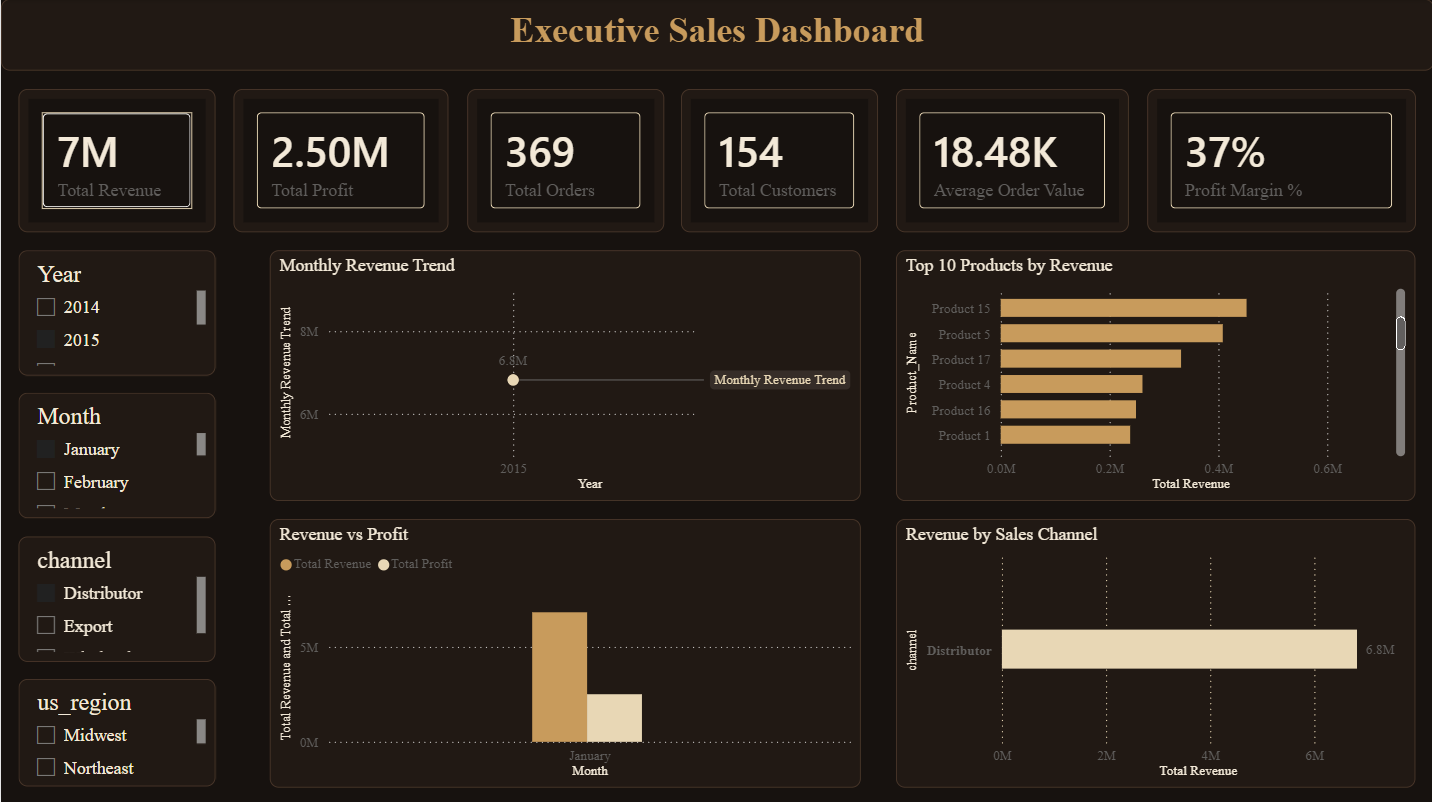

Layout of this report page (visuals, bound fields, positions):
{"tool":"powerbi","page":{"name":"Executive Sales Dashboard","canvas":[1280,720],"ordinal":0},"visuals":[{"type":"cardVisual","fields":{"Data":["cleaned_sales_data.Total Revenue"]},"box":[16,80,176,128],"z":0},{"type":"cardVisual","fields":{"Data":["cleaned_sales_data.Total Profit"]},"box":[208,80,192,128],"z":1000},{"type":"cardVisual","fields":{"Data":["cleaned_sales_data.Total Orders"]},"box":[416,80,176,128],"z":2000},{"type":"cardVisual","fields":{"Data":["cleaned_sales_data.Total Customers"]},"box":[608,80,176,128],"z":3000},{"type":"cardVisual","fields":{"Data":["cleaned_sales_data.Average Order Value"]},"box":[800,80,208,128],"z":4000},{"type":"cardVisual","fields":{"Data":["cleaned_sales_data.Profit Margin %"]},"box":[1024,80,240,128],"z":5000},{"type":"lineChart","title":"Monthly Revenue Trend","fields":{"Y":["cleaned_sales_data.Total Revenue"],"Category":["cleaned_sales_data.order_date.Variation.Date Hierarchy.Year","cleaned_sales_data.order_date.Variation.Date Hierarchy.Month"]},"box":[240,224,528,224],"z":6000},{"type":"clusteredBarChart","title":"Revenue by Sales Channel","fields":{"Category":["cleaned_sales_data.channel"],"Y":["cleaned_sales_data.Total Revenue"]},"box":[800,464,464,240],"z":7000},{"type":"clusteredBarChart","title":"Top 10 Products by Revenue","fields":{"Category":["cleaned_sales_data.Product_Name"],"Y":["cleaned_sales_data.Total Revenue"]},"box":[800,224,464,224],"z":8000},{"type":"clusteredColumnChart","title":"Revenue vs Profit","fields":{"Category":["cleaned_sales_data.order_date.Variation.Date Hierarchy.Month"],"Y":["cleaned_sales_data.Total Revenue","cleaned_sales_data.Total Profit"]},"box":[240,464,528,240],"z":9000},{"type":"slicer","fields":{"Values":["cleaned_sales_data.order_date.Variation.Date Hierarchy.Year"]},"box":[16,224,176,112],"z":10000},{"type":"slicer","fields":{"Values":["cleaned_sales_data.channel"]},"box":[16,480,176,112],"z":11000},{"type":"slicer","fields":{"Values":["cleaned_sales_data.us_region"]},"box":[16,608,176,96],"z":12000},{"type":"slicer","fields":{"Values":["cleaned_sales_data.order_date.Variation.Date Hierarchy.Month"]},"box":[16,352,176,112],"z":13000},{"type":"textbox","box":[0,0,1280,64],"z":14000}]}

Visuals, with their boxes in screenshot pixels (x1, y1, x2, y2), scaled from the page's 1280x720 canvas onto the 1432x802 screenshot:
cardVisual - cleaned_sales_data.Total Revenue: (18,89,215,232)
cardVisual - cleaned_sales_data.Total Profit: (233,89,447,232)
cardVisual - cleaned_sales_data.Total Orders: (465,89,662,232)
cardVisual - cleaned_sales_data.Total Customers: (680,89,877,232)
cardVisual - cleaned_sales_data.Average Order Value: (895,89,1128,232)
cardVisual - cleaned_sales_data.Profit Margin %: (1146,89,1414,232)
"Monthly Revenue Trend" lineChart: (268,250,859,499)
"Revenue by Sales Channel" clusteredBarChart: (895,517,1414,784)
"Top 10 Products by Revenue" clusteredBarChart: (895,250,1414,499)
"Revenue vs Profit" clusteredColumnChart: (268,517,859,784)
slicer - cleaned_sales_data.order_date.Variation.Date Hierarchy.Year: (18,250,215,374)
slicer - cleaned_sales_data.channel: (18,535,215,659)
slicer - cleaned_sales_data.us_region: (18,677,215,784)
slicer - cleaned_sales_data.order_date.Variation.Date Hierarchy.Month: (18,392,215,517)
textbox: (0,0,1431,71)
